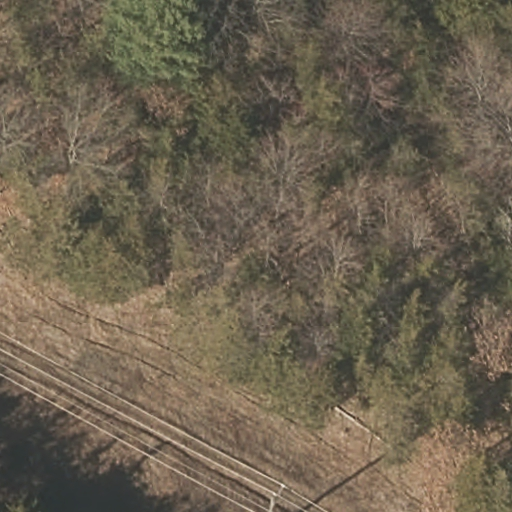DT: (264, 478, 289, 512)
